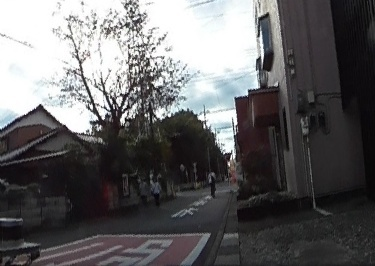person: (137, 177, 148, 206), (150, 175, 160, 202), (208, 168, 215, 198)
